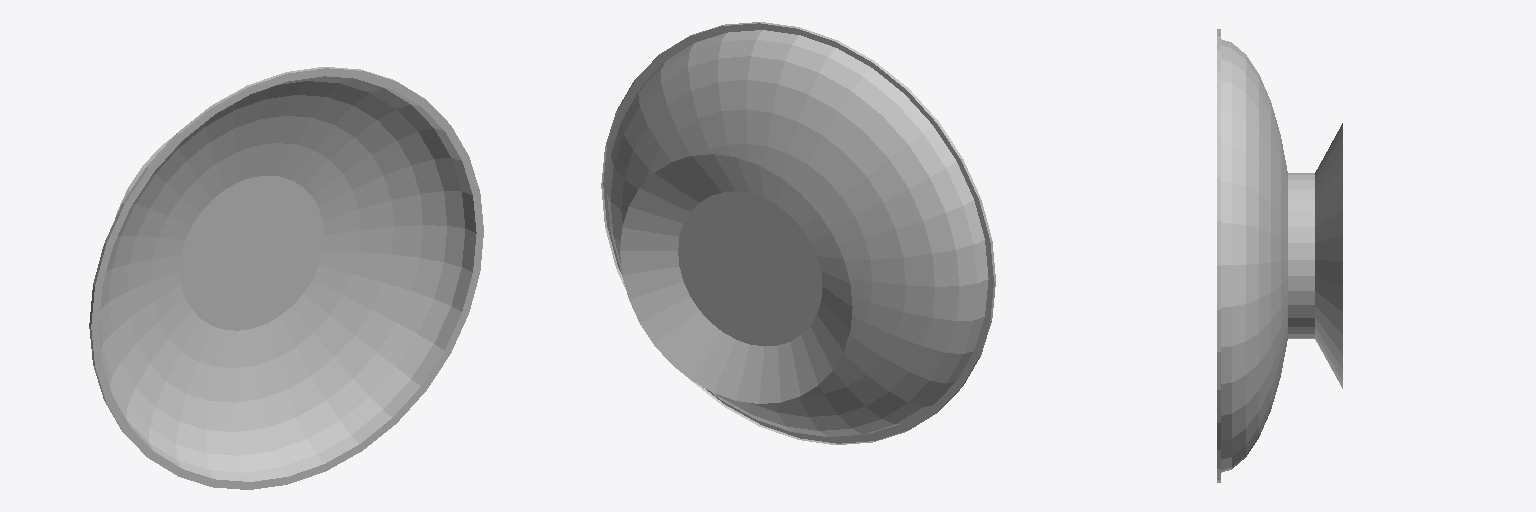
The model's file is Cuenc.obj.
The picture shows the model from 3 angles: view 1: azimuth 30°, elevation 25°; view 2: azimuth 150°, elevation 25°; view 3: azimuth 270°, elevation 25°; orthographic projection.
Visible parts, largest first — view 1: Cuenc_Sphere; view 2: Cuenc_Sphere; view 3: Cuenc_Sphere.
Boxes of the visible parts, x1,y1,x2,y2 form: Cuenc_Sphere: [89, 67, 483, 489]; Cuenc_Sphere: [601, 22, 995, 444]; Cuenc_Sphere: [1217, 29, 1342, 482].
Size of the model in its own units: 0.6295 by 0.6295 by 0.1759.